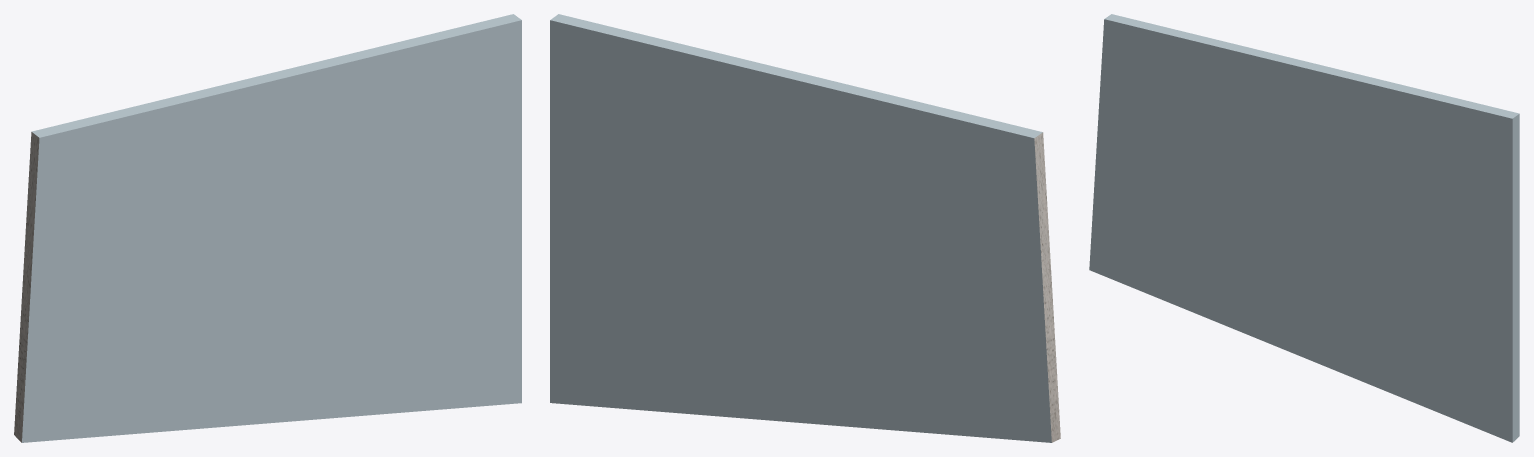
Rendered from glass3.glb.
3 renders of one model, left to right at view 1: azimuth 30°, elevation 25°; view 2: azimuth 150°, elevation 25°; view 3: azimuth 330°, elevation 25°, orthographic. The views are drawn at different scales.
Visible parts, largest first — view 1: broken_window_cell; view 2: broken_window_cell; view 3: broken_window_cell.
Boxes of the visible parts, bbox=[...] form: broken_window_cell: bbox=[14, 14, 521, 442]; broken_window_cell: bbox=[550, 14, 1060, 442]; broken_window_cell: bbox=[1089, 14, 1519, 442].
Size of the model in its own units: 1.62 by 1.18 by 0.0471.
Materials: 2 (1 with a texture image).
